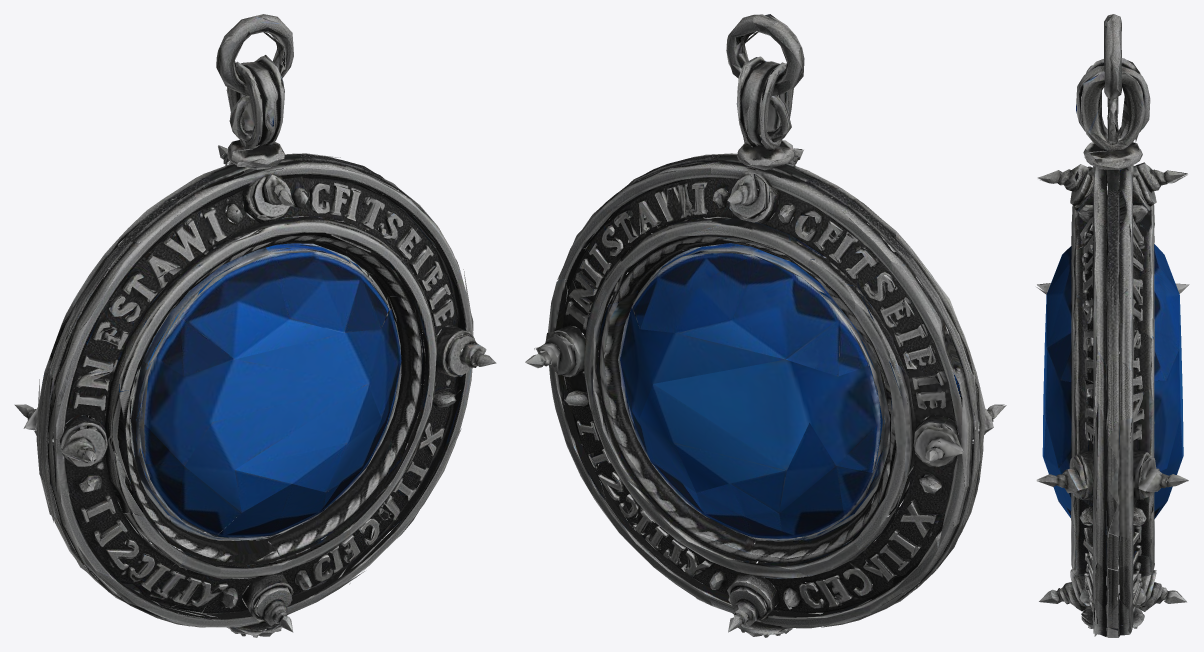
File: guardian_amulet.fbx
The picture shows the model from 3 angles, left to right: view 1: azimuth 30°, elevation 25°; view 2: azimuth 150°, elevation 25°; view 3: azimuth 270°, elevation 25°; orthographic projection.
Parts seen in each view (by area): view 1: guardian_amulet; view 2: guardian_amulet; view 3: guardian_amulet.
Part boxes in pixels (x1,y1,x2,y2): guardian_amulet: [14, 14, 496, 637]; guardian_amulet: [525, 14, 1006, 637]; guardian_amulet: [1036, 14, 1189, 637].
Bounding box in the file's own units: 0.6582 × 0.9019 × 0.2063.
Materials: 1 (1 with a texture image).
